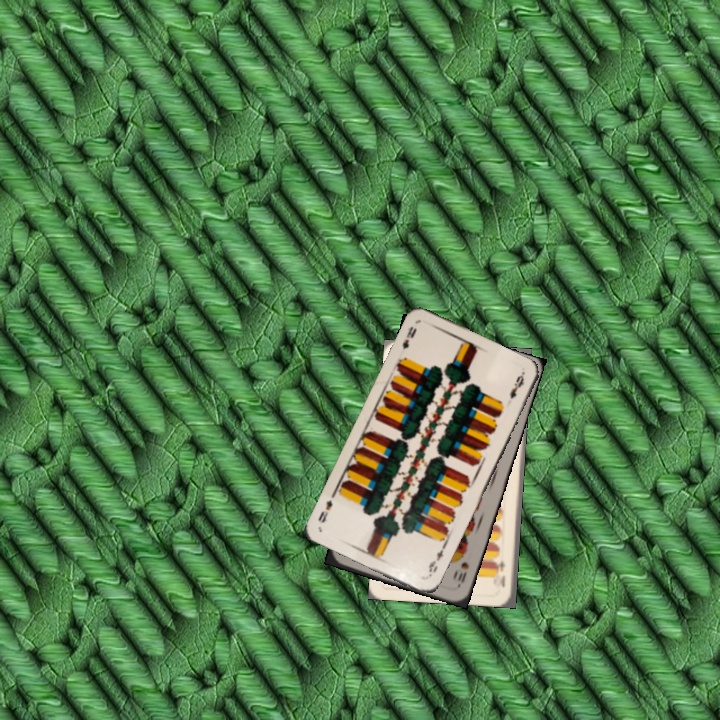E10: (493, 555, 508, 589)
E9: (424, 542, 448, 580), (398, 322, 419, 352)
S10: (454, 558, 472, 585)
